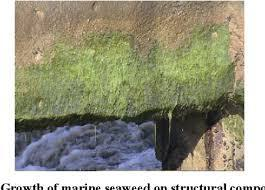Corrosion: (15, 18, 235, 120), (223, 107, 243, 141), (234, 78, 243, 107)
